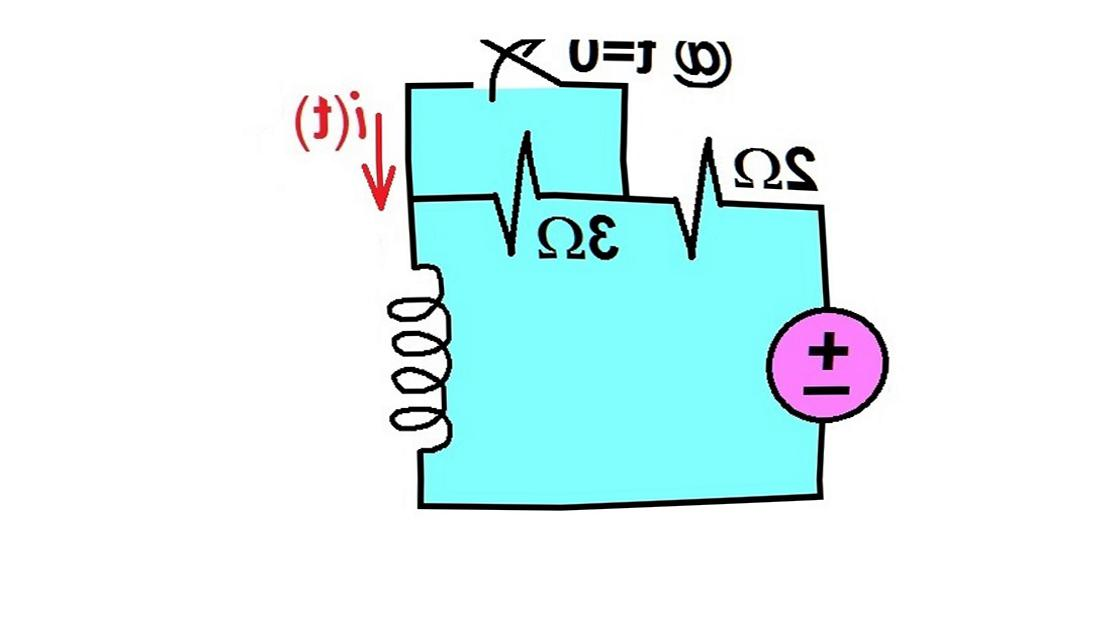Battery: (731, 287, 904, 437)
